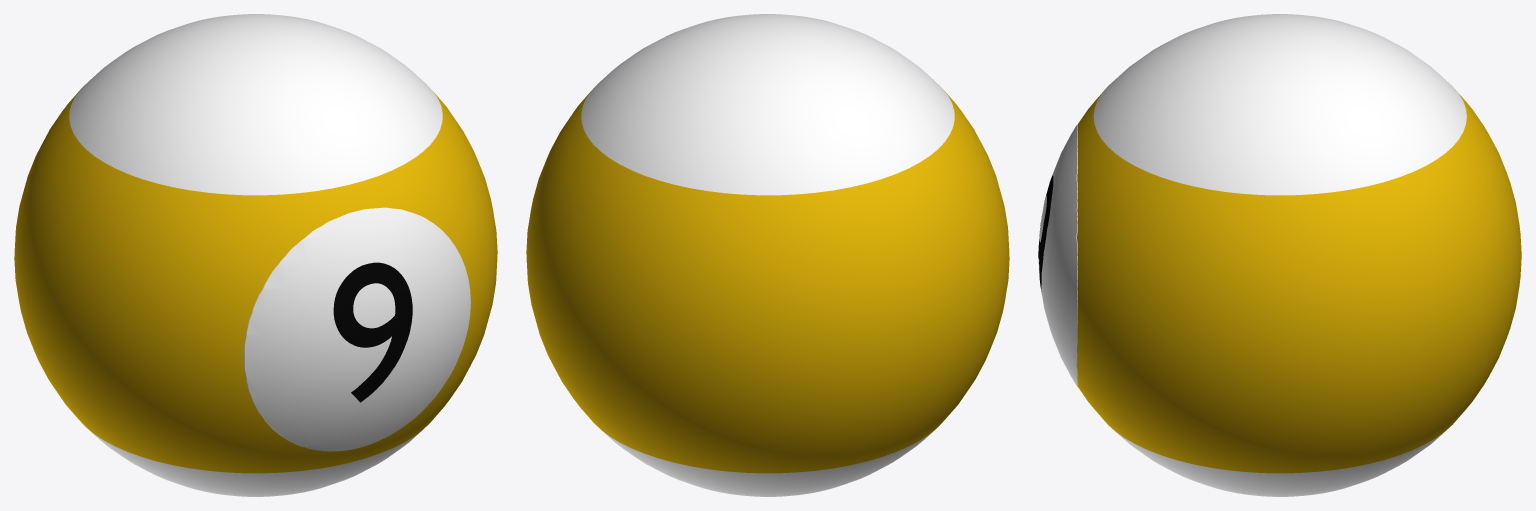
Rendered from Ball9.fbx.
3 views of the same model, side by side, from view 1: azimuth 30°, elevation 25°; view 2: azimuth 150°, elevation 25°; view 3: azimuth 270°, elevation 25° (orthographic).
Visible parts, largest first — view 1: Ball9; view 2: Ball9; view 3: Ball9.
Boxes of the visible parts, x1,y1,x2,y2 form: Ball9: (14, 14, 497, 496); Ball9: (526, 14, 1009, 496); Ball9: (1038, 14, 1521, 496).
Bounding box in the file's own units: 5.7 × 5.7 × 5.7.
